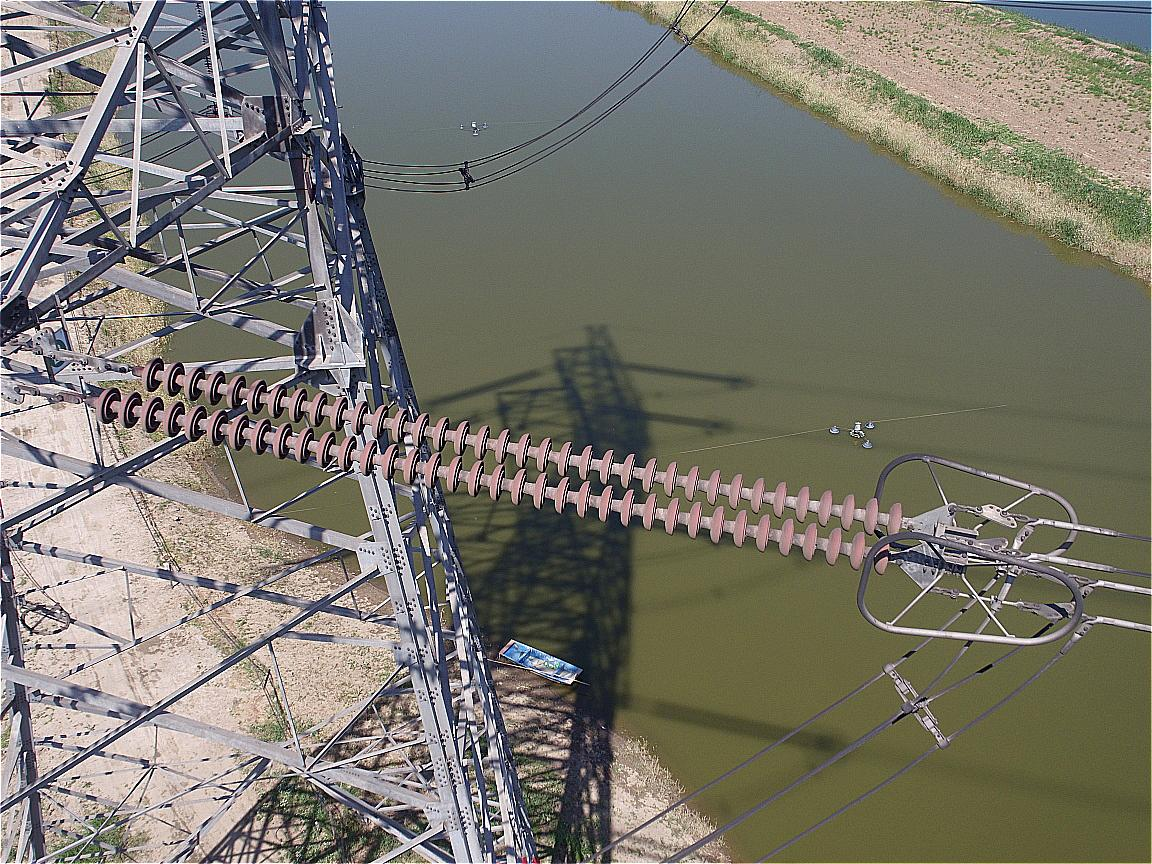insultor1: (95, 356, 904, 573)
